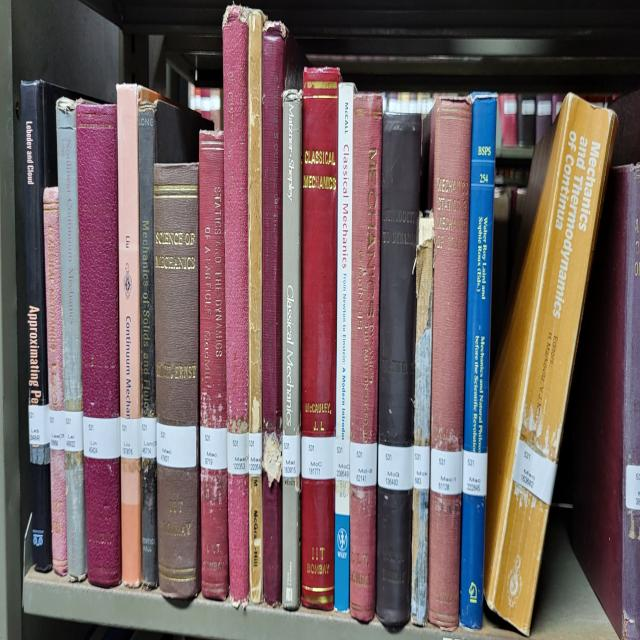Book: (484, 95, 616, 633), (139, 100, 211, 587), (429, 97, 472, 630), (75, 103, 121, 587), (21, 81, 66, 571), (301, 68, 340, 611), (154, 162, 200, 598), (460, 95, 495, 628), (350, 95, 382, 622), (222, 8, 250, 603), (56, 97, 88, 579), (379, 111, 421, 446), (199, 130, 229, 598), (262, 24, 286, 603), (118, 84, 142, 587), (335, 84, 356, 611), (282, 89, 302, 609), (248, 11, 265, 603), (411, 216, 434, 625), (44, 187, 64, 411)
Label: (512, 441, 556, 506), (156, 422, 196, 468), (378, 444, 414, 490), (82, 417, 120, 460), (430, 449, 462, 495), (301, 436, 335, 479), (200, 425, 228, 471), (350, 441, 378, 487), (462, 449, 488, 495), (29, 403, 50, 446), (120, 417, 141, 460), (228, 430, 249, 473), (64, 411, 84, 452), (282, 436, 300, 479), (414, 446, 430, 490), (335, 438, 350, 482), (141, 417, 156, 460), (49, 409, 65, 449), (249, 433, 262, 476)
